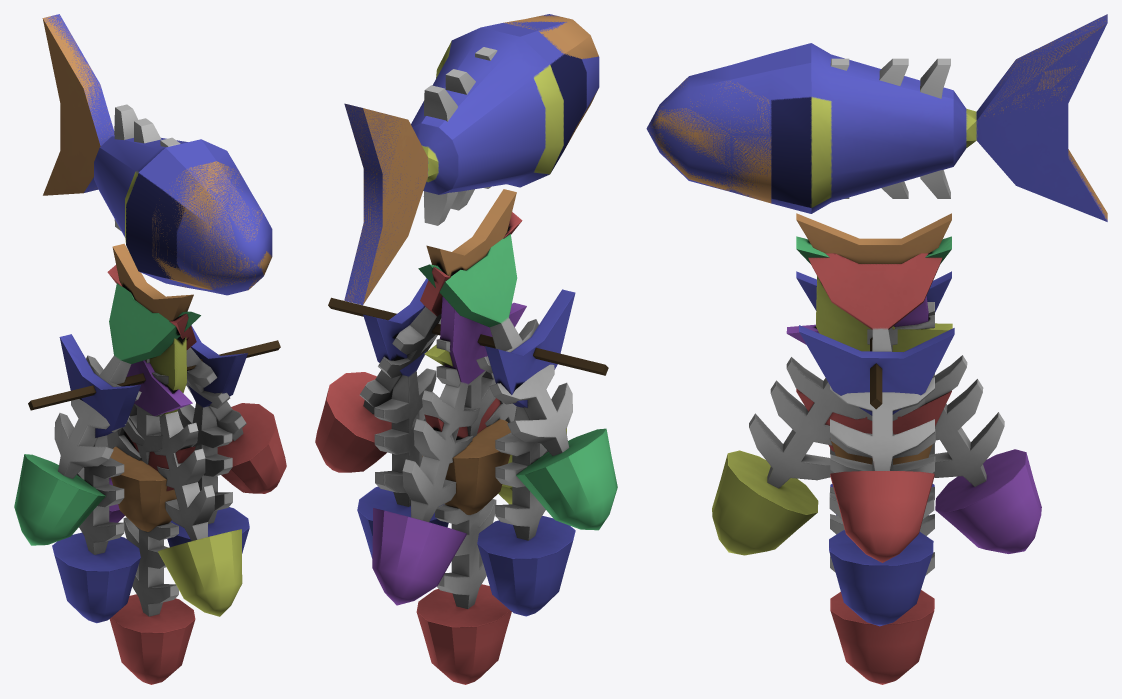
The model's file is asset_amunition.fbx.
3 renders of one model, left to right at view 1: azimuth 30°, elevation 25°; view 2: azimuth 150°, elevation 25°; view 3: azimuth 270°, elevation 25°, orthographic. The views are drawn at different scales.
Visible parts, largest first — view 1: balloon_munition, grenadeLauncher_munition, rifle_munition; view 2: balloon_munition, grenadeLauncher_munition, rifle_munition; view 3: balloon_munition, grenadeLauncher_munition, rifle_munition.
Part boxes in pixels (x1,y1,x2,y2): balloon_munition: (14, 243, 286, 684); grenadeLauncher_munition: (44, 14, 272, 295); rifle_munition: (42, 15, 271, 290); balloon_munition: (315, 189, 617, 684); grenadeLauncher_munition: (344, 14, 599, 305); rifle_munition: (344, 15, 598, 304); balloon_munition: (712, 213, 1041, 684); grenadeLauncher_munition: (646, 14, 1107, 221); rifle_munition: (650, 15, 1107, 219).
Bounding box in the file's own units: 38.11 × 84.01 × 52.68.
1 material, 1 textured.
